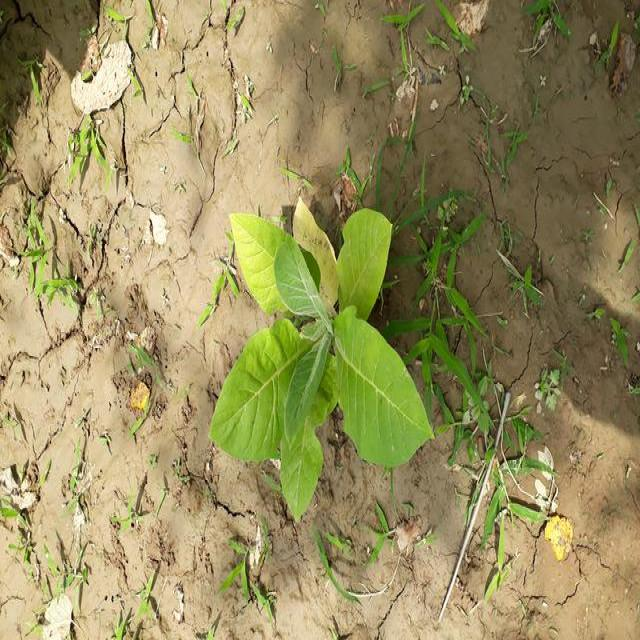crop: (233, 182, 444, 488), (234, 486, 238, 490)
